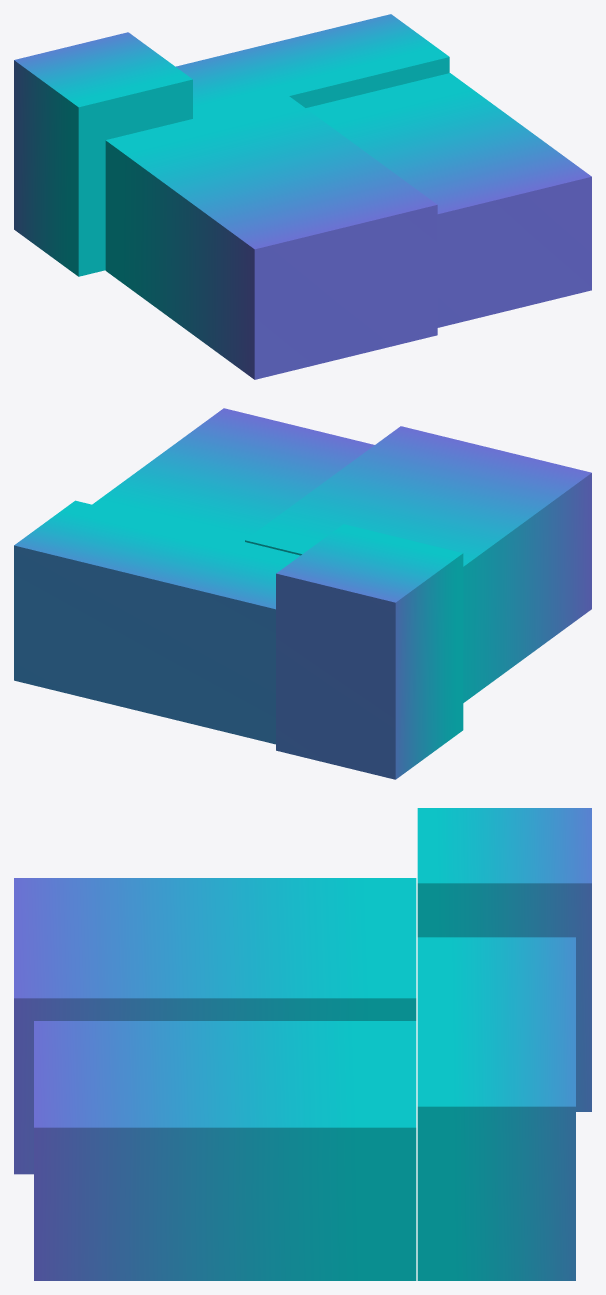
Rendered from ETC0310007.fbx.
3 views of the same model, one above another, from view 1: azimuth 30°, elevation 25°; view 2: azimuth 150°, elevation 25°; view 3: azimuth 270°, elevation 25° (orthographic). The views are drawn at different scales.
Parts seen in each view (by area): view 1: smETC0310007; view 2: smETC0310007; view 3: smETC0310007.
Boxes of the visible parts, box(x1,y1,x2,y2) form: smETC0310007: box(14, 14, 591, 379); smETC0310007: box(14, 408, 591, 779); smETC0310007: box(14, 808, 591, 1280).
Size of the model in its own units: 135 by 58.99 by 135.
Materials: 1 (1 with a texture image).
